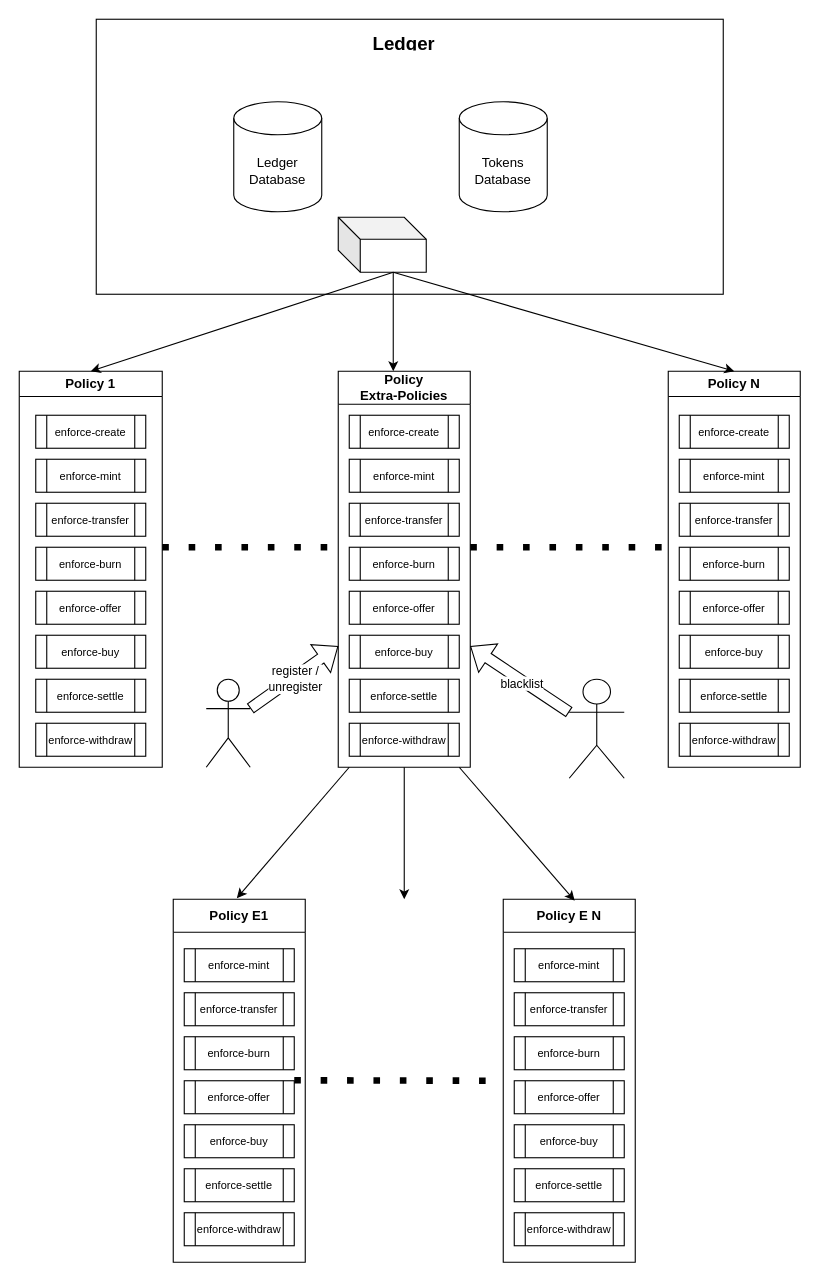
Some shapes in this 820 by 1282 pixel diagram are drawn without their labels. Here are the shapes that lost their labels. From the top down, the centre of each, then its label:
At (x=381, y=244): "Token A".
At (x=227, y=722): "Dev".
At (x=596, y=728): "Creator".
